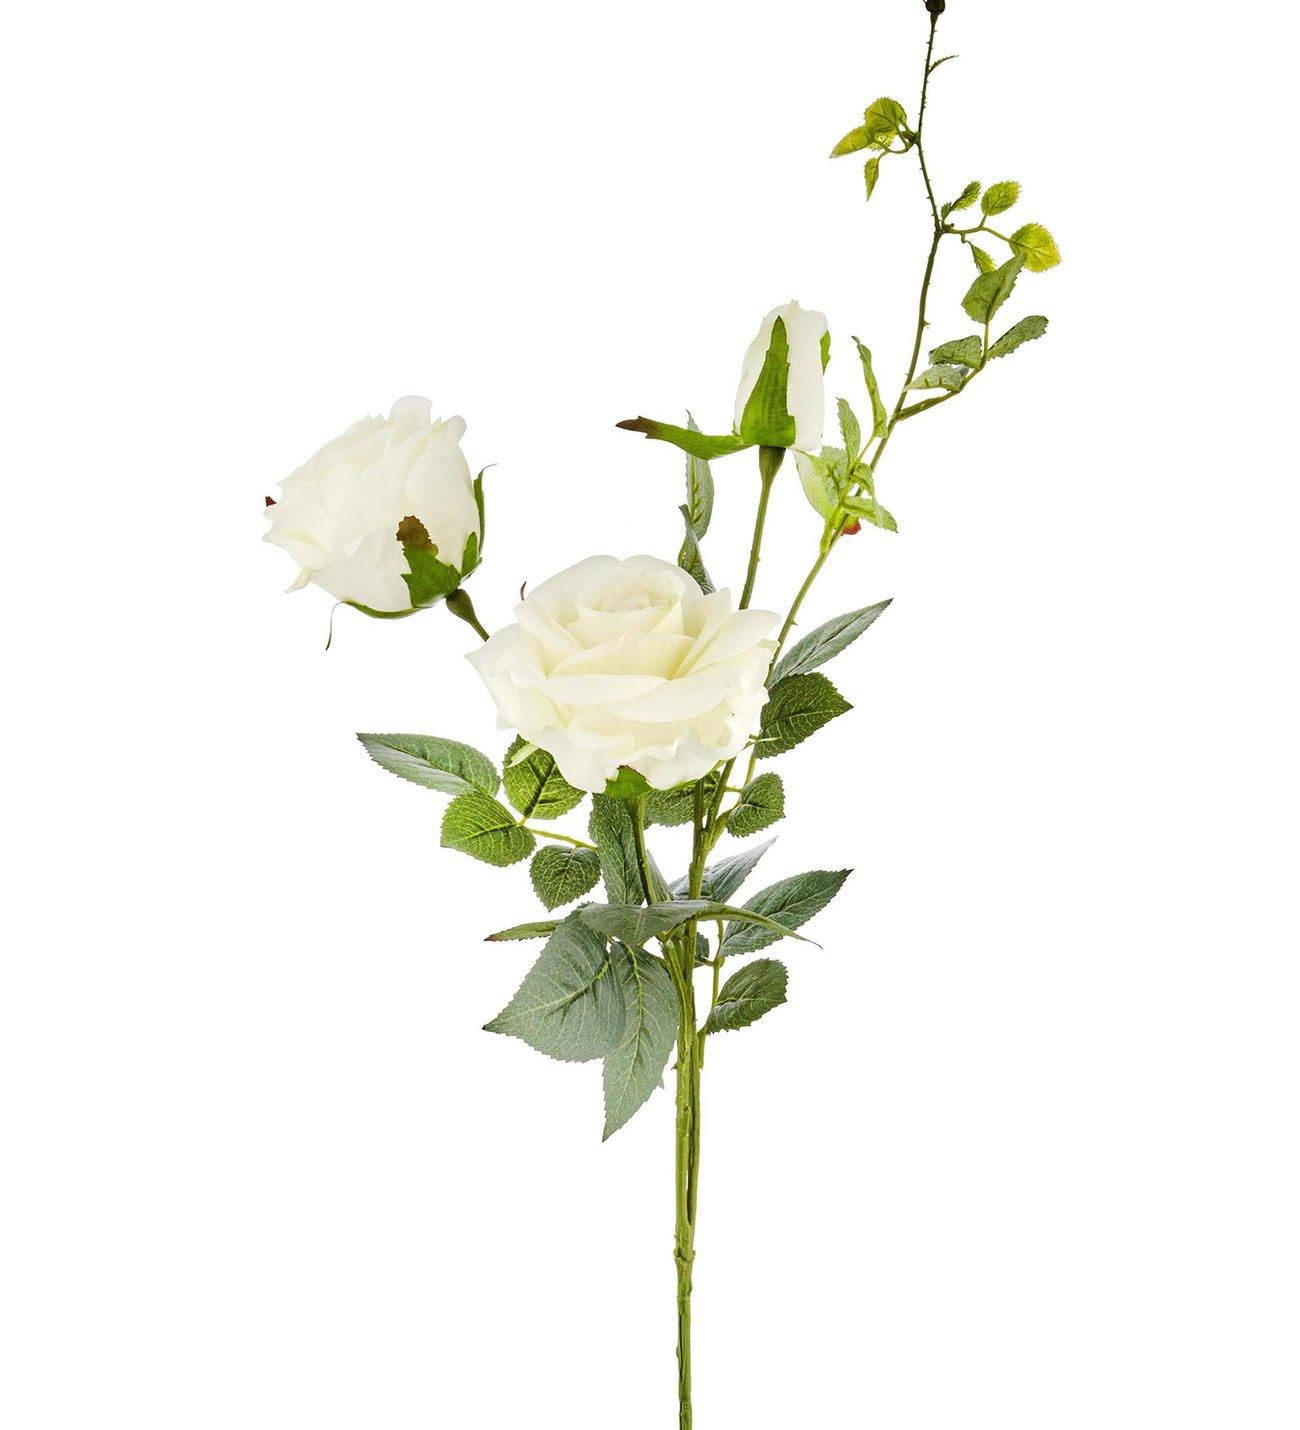Rose: (478, 537, 822, 825), (200, 404, 513, 651)
